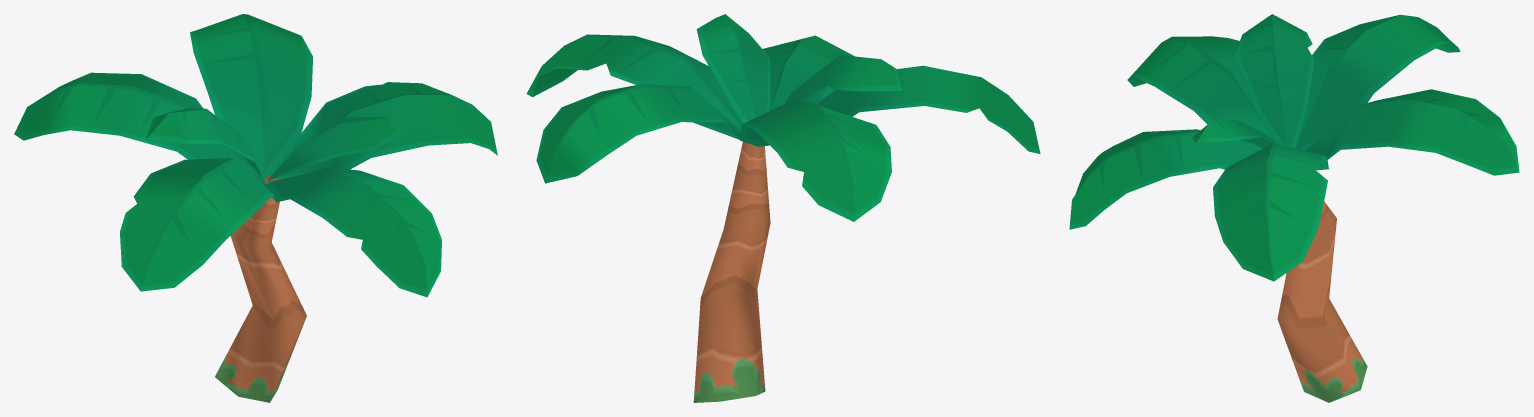
Rendered from tree1.glb.
3 views of the same model, side by side, from view 1: azimuth 30°, elevation 25°; view 2: azimuth 150°, elevation 25°; view 3: azimuth 270°, elevation 25° (orthographic). The views are drawn at different scales.
Visible parts, largest first — view 1: bgr_island_brawl_ball_props_right.010_palm_tree.001_0; view 2: bgr_island_brawl_ball_props_right.010_palm_tree.001_0; view 3: bgr_island_brawl_ball_props_right.010_palm_tree.001_0.
Part boxes in pixels (x1,y1,x2,y2): bgr_island_brawl_ball_props_right.010_palm_tree.001_0: (14,14,497,402); bgr_island_brawl_ball_props_right.010_palm_tree.001_0: (526,14,1040,402); bgr_island_brawl_ball_props_right.010_palm_tree.001_0: (1069,14,1519,402).
Size of the model in its own units: 4.06 by 3.06 by 3.86.
Materials: 1 (1 with a texture image).
